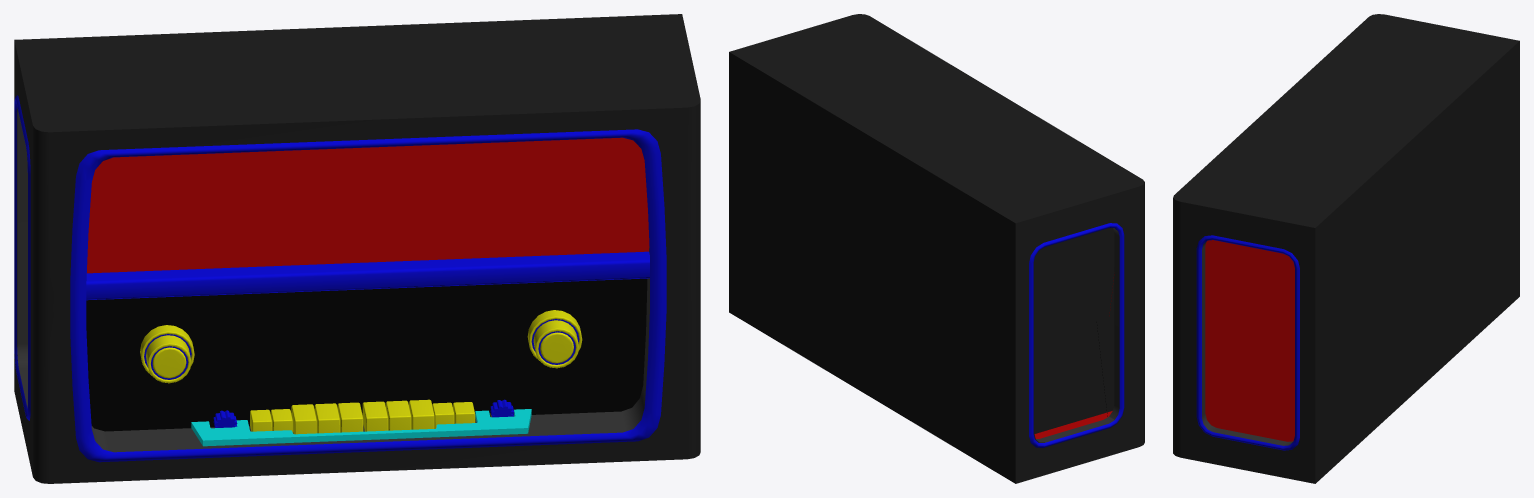
Rendered from SM_Radio_001.fbx.
The picture shows the model from 3 angles, left to right: view 1: azimuth 30°, elevation 25°; view 2: azimuth 150°, elevation 25°; view 3: azimuth 270°, elevation 25°; orthographic projection. The views are drawn at different scales.
Visible parts, largest first — view 1: Radio_001; view 2: Radio_001; view 3: Radio_001.
Part boxes in pixels (x1,y1,x2,y2): Radio_001: [14, 14, 700, 483]; Radio_001: [729, 14, 1144, 483]; Radio_001: [1173, 14, 1519, 483].
Size of the model in its own units: 42.81 by 23.86 by 29.3.
